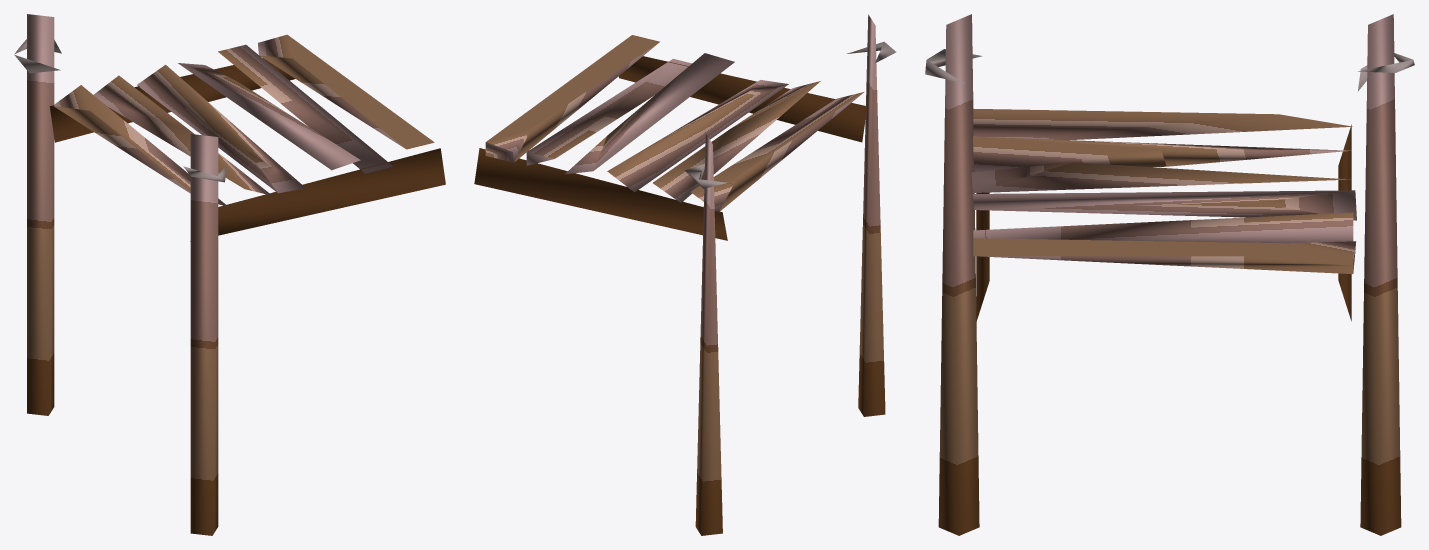
Rendered from Environment_Dock.low.gltf.
3 renders of one model, left to right at view 1: azimuth 30°, elevation 25°; view 2: azimuth 150°, elevation 25°; view 3: azimuth 270°, elevation 25°, orthographic. The views are drawn at different scales.
Parts seen in each view (by area): view 1: Environment_Dock; view 2: Environment_Dock; view 3: Environment_Dock.
Boxes of the visible parts, left/top/right/bottom form: Environment_Dock: left=14, top=14, right=445, bottom=535; Environment_Dock: left=474, top=14, right=896, bottom=535; Environment_Dock: left=925, top=14, right=1414, bottom=535.
Bounding box in the file's own units: 2.17 × 3.01 × 2.63.
Materials: 1 (1 with a texture image).
